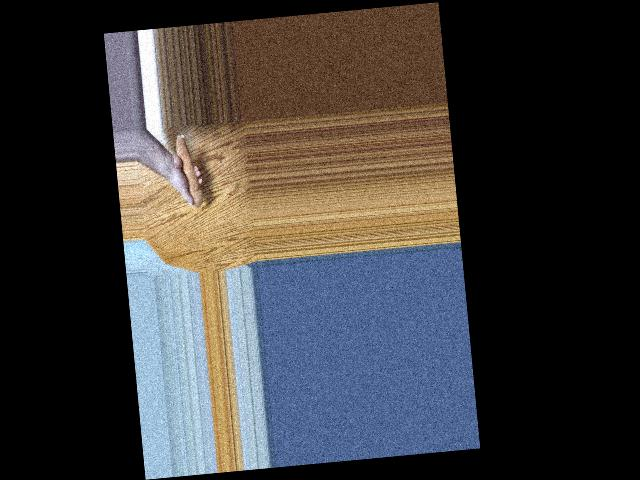sweet_potato: (171, 130, 204, 208)
